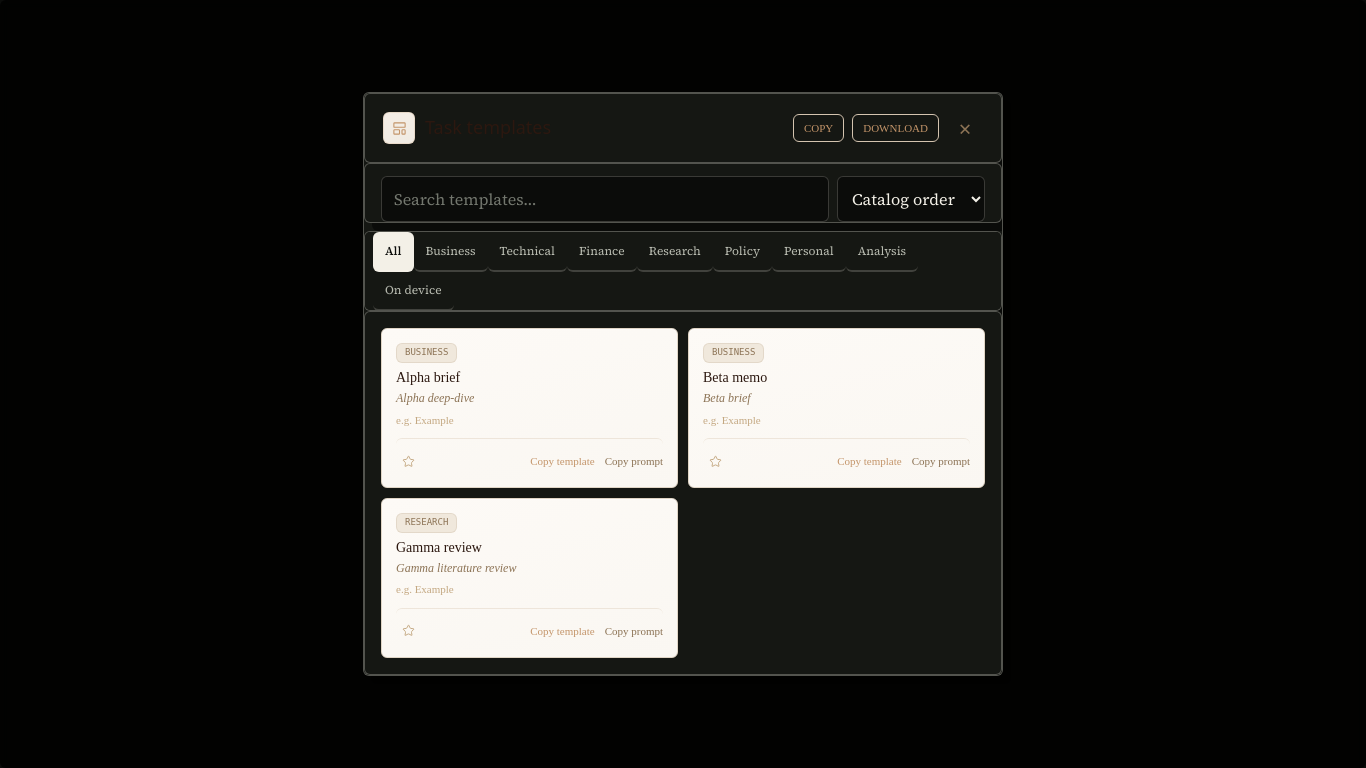
TemplatesModal favorites › stars a template, persists it, and filters the Favorites tab
The image size is (1366, 768).
Click the button named "Favorite template Alpha brief".
click(408, 461)  # box [396,449,420,473]
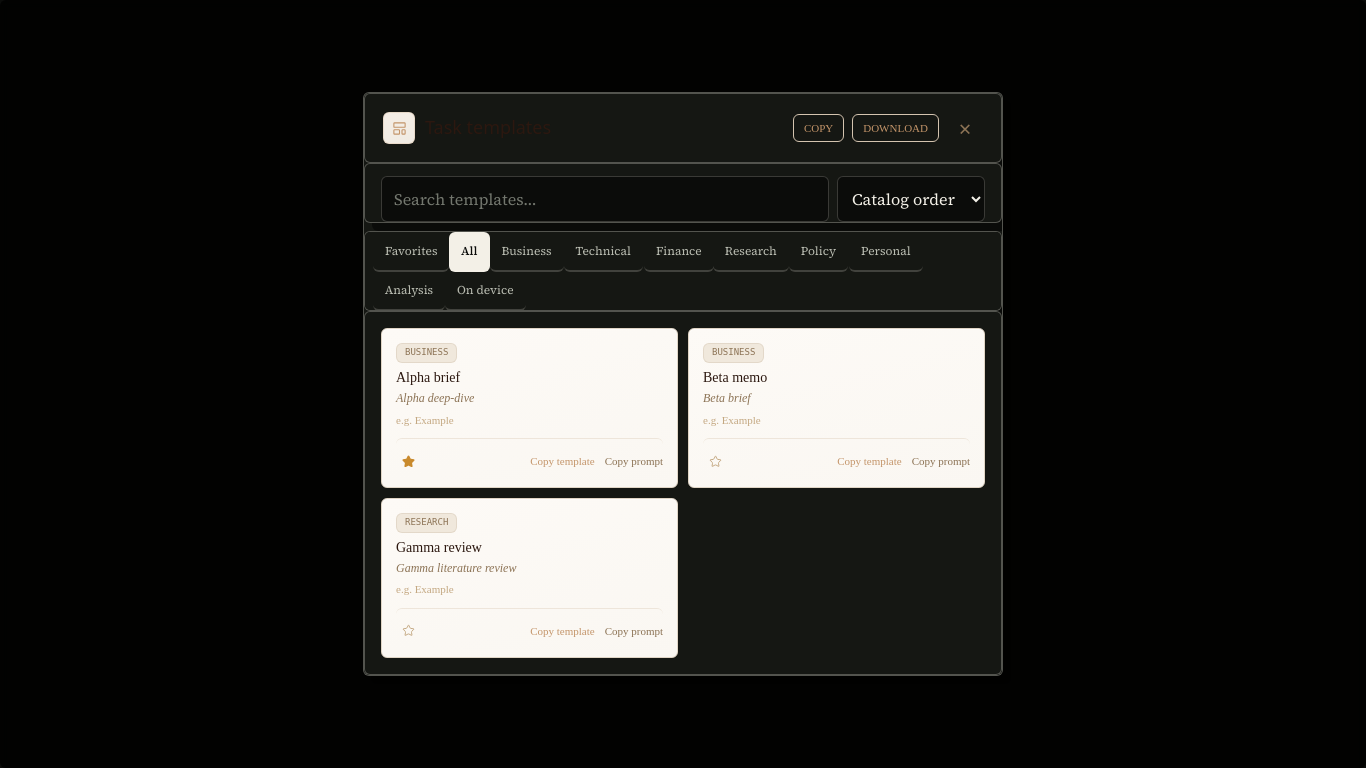
Expected: the button named "Favorite template Alpha brief" is pressed, [396,449,420,473]
Click the tab "Favorites".
click(411, 252)  # box [373,232,450,272]
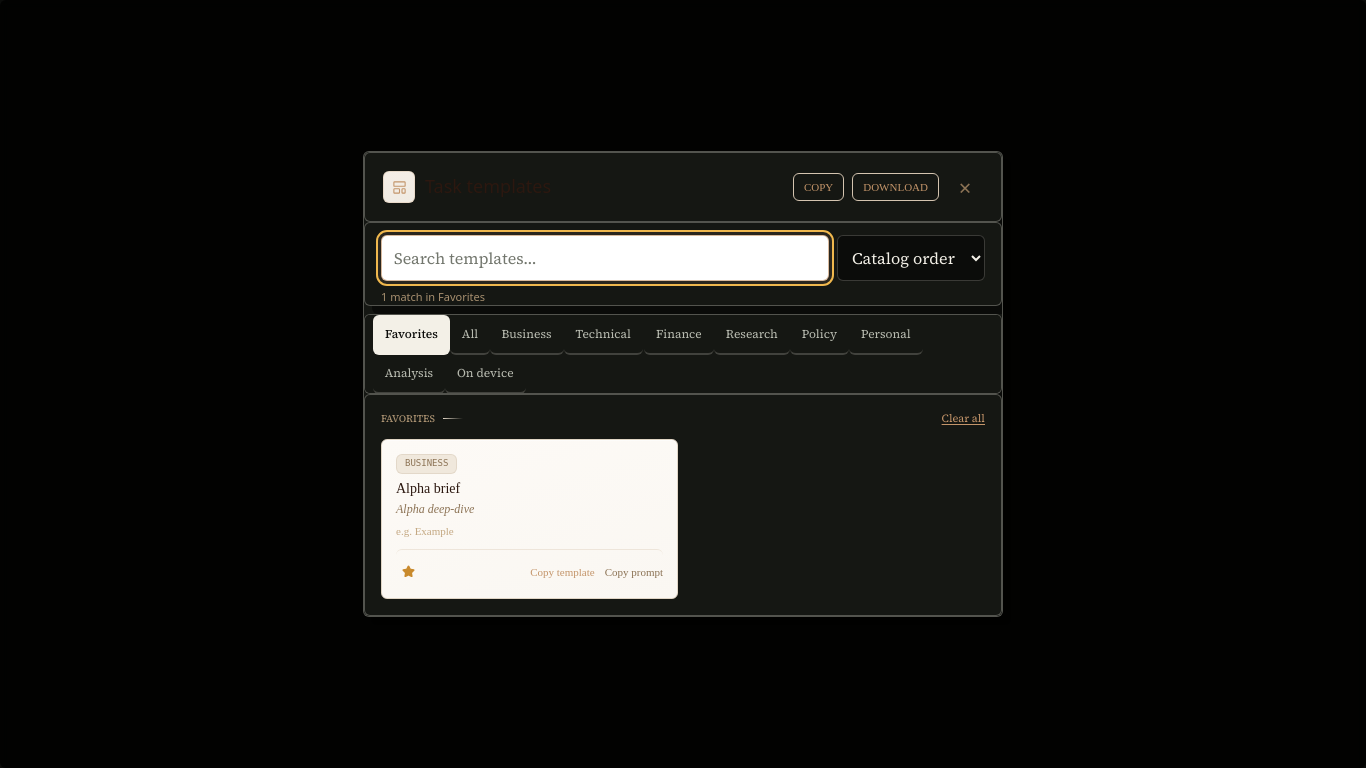
Expected: the button "Beta memo" is gone
Expected: the button "Gamma review" is gone
Expected: the button "Clear all" is shown, [942,410,985,427]
